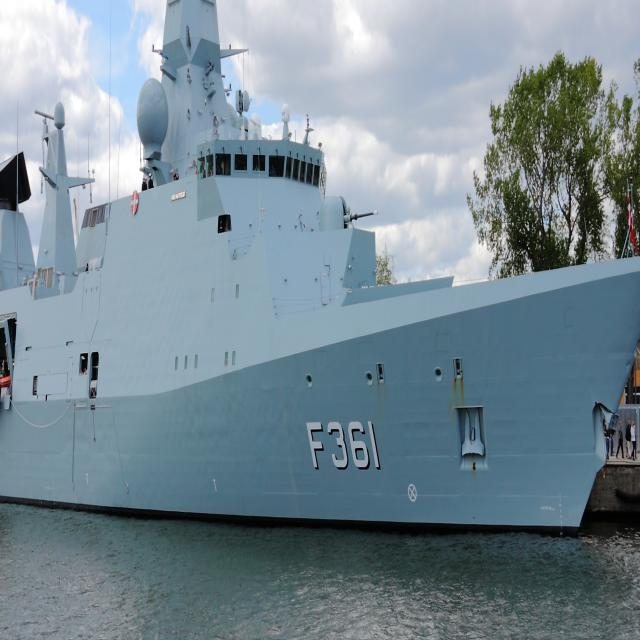Fragata: (1, 1, 640, 557)
